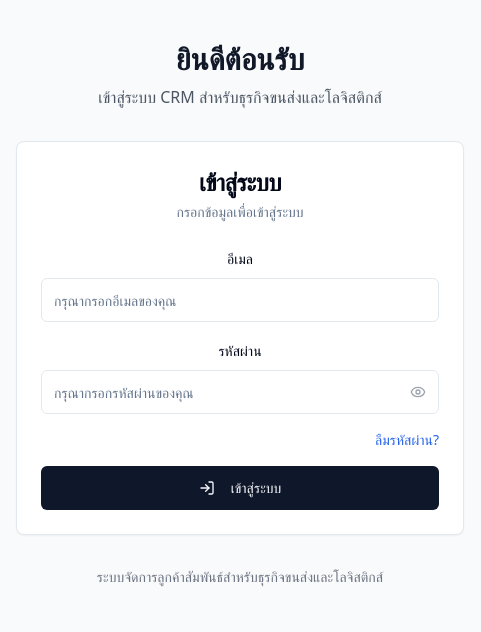
Scenario: LoginPage › shows password length validation error
Type "123" into the password field with placeholder "กรุณากรอกรหัสผ่านของคุณ" at (240, 392), box [41,370,439,414]
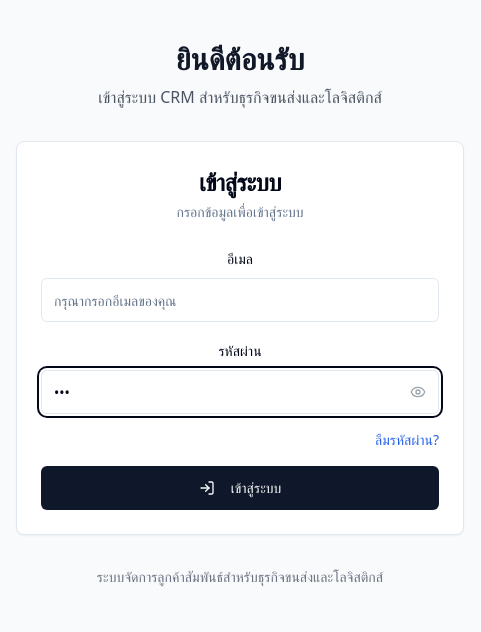
Click the button "เข้าสู่ระบบ" at (240, 488), box [41,466,439,510]
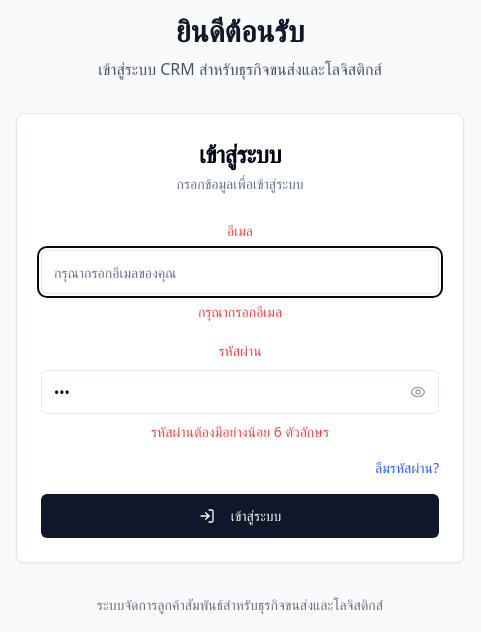
Result: the text "รหัสผ่านต้องมีอย่างน้อย 6 ตัวอักษร" is shown at [151,422,329,441]
